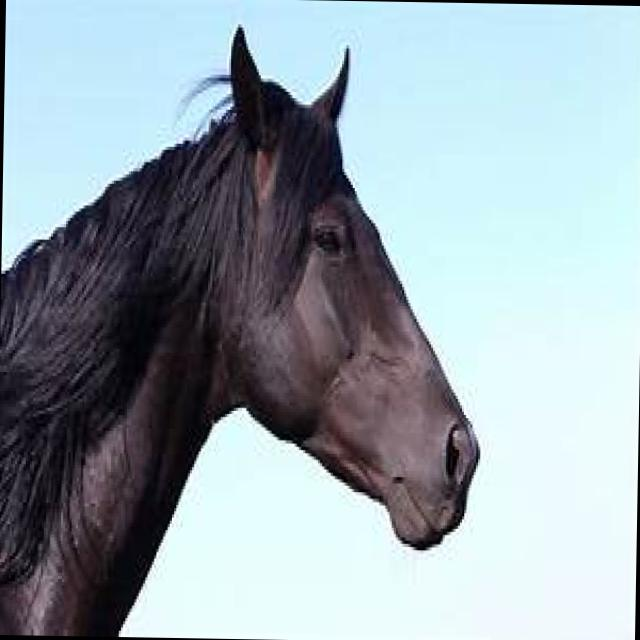animal: (0, 16, 487, 639)
